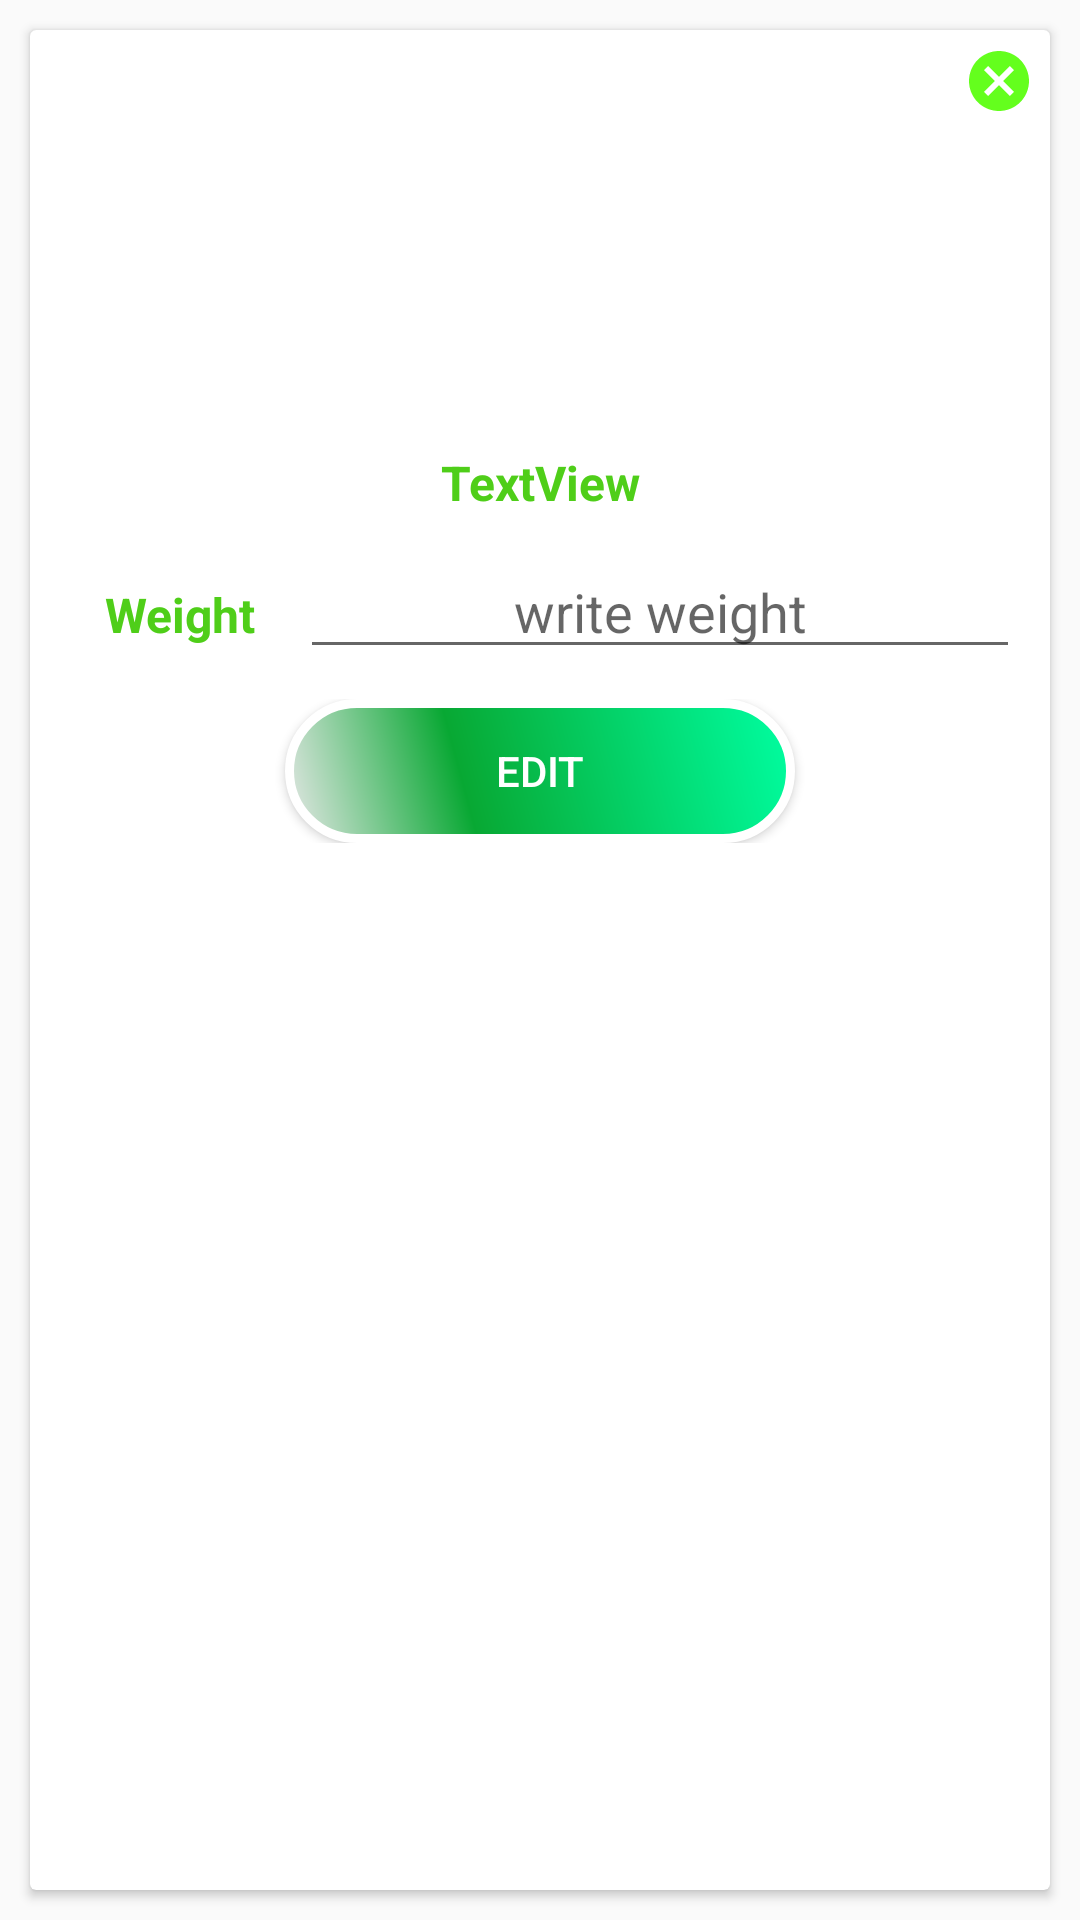

Where icons sit on this 1080 × 1920 app screen, as (x1, y1, x2, y2):
cancel: (969, 51, 1029, 111)
